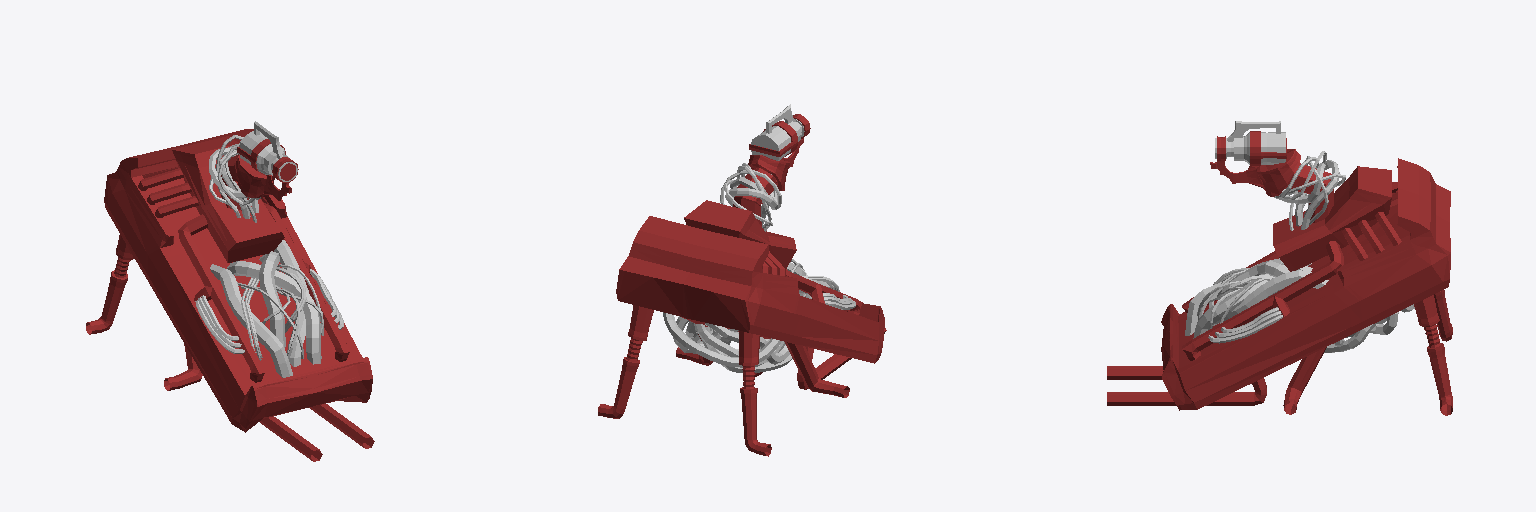
File: chassis.obj
3 views of the same model, side by side, from view 1: azimuth 30°, elevation 25°; view 2: azimuth 150°, elevation 25°; view 3: azimuth 270°, elevation 25° (orthographic).
Visible parts, largest first — view 1: Chassis-Lvl1_Cube, Cylinder.016_Cylinder.021, Cylinder_Cylinder.003; view 2: Chassis-Lvl1_Cube, Cylinder.016_Cylinder.021, Cylinder_Cylinder.003; view 3: Chassis-Lvl1_Cube, Cylinder.016_Cylinder.021, Cylinder_Cylinder.003.
Part boxes in pixels (x1,y1,x2,y2): Chassis-Lvl1_Cube: (86, 129, 374, 461); Cylinder.016_Cylinder.021: (195, 135, 343, 377); Cylinder_Cylinder.003: (239, 121, 297, 181); Chassis-Lvl1_Cube: (598, 114, 886, 456); Cylinder.016_Cylinder.021: (663, 163, 855, 372); Cylinder_Cylinder.003: (751, 104, 804, 160); Chassis-Lvl1_Cube: (1107, 131, 1452, 415); Cylinder.016_Cylinder.021: (1185, 151, 1414, 352); Cylinder_Cylinder.003: (1215, 121, 1285, 164).
Size of the model in its own units: 3.46 by 5.33 by 6.18.